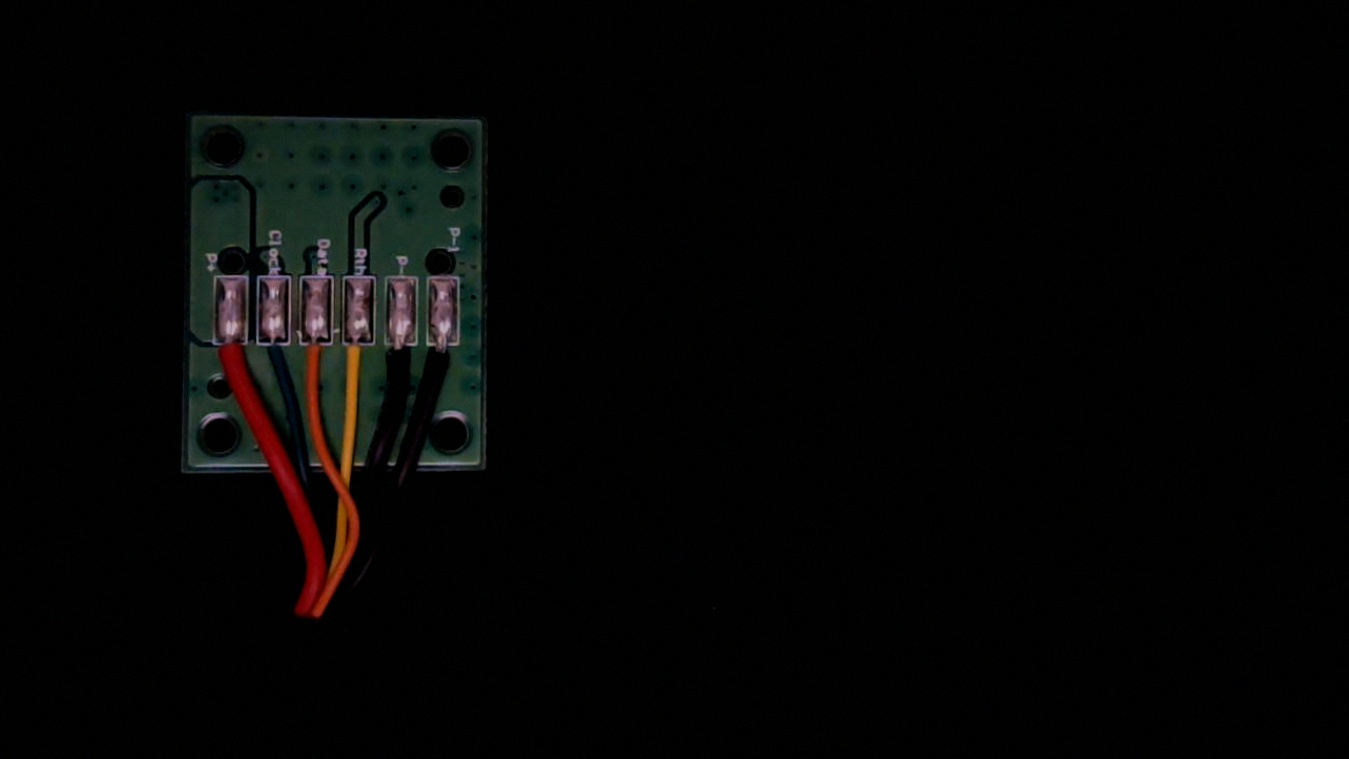Black: (382, 329, 413, 396)
Black1: (425, 330, 459, 393)
Green: (256, 329, 293, 386)
Orange: (300, 328, 333, 391)
Red: (210, 330, 248, 392)
Yellow: (339, 329, 374, 397)
